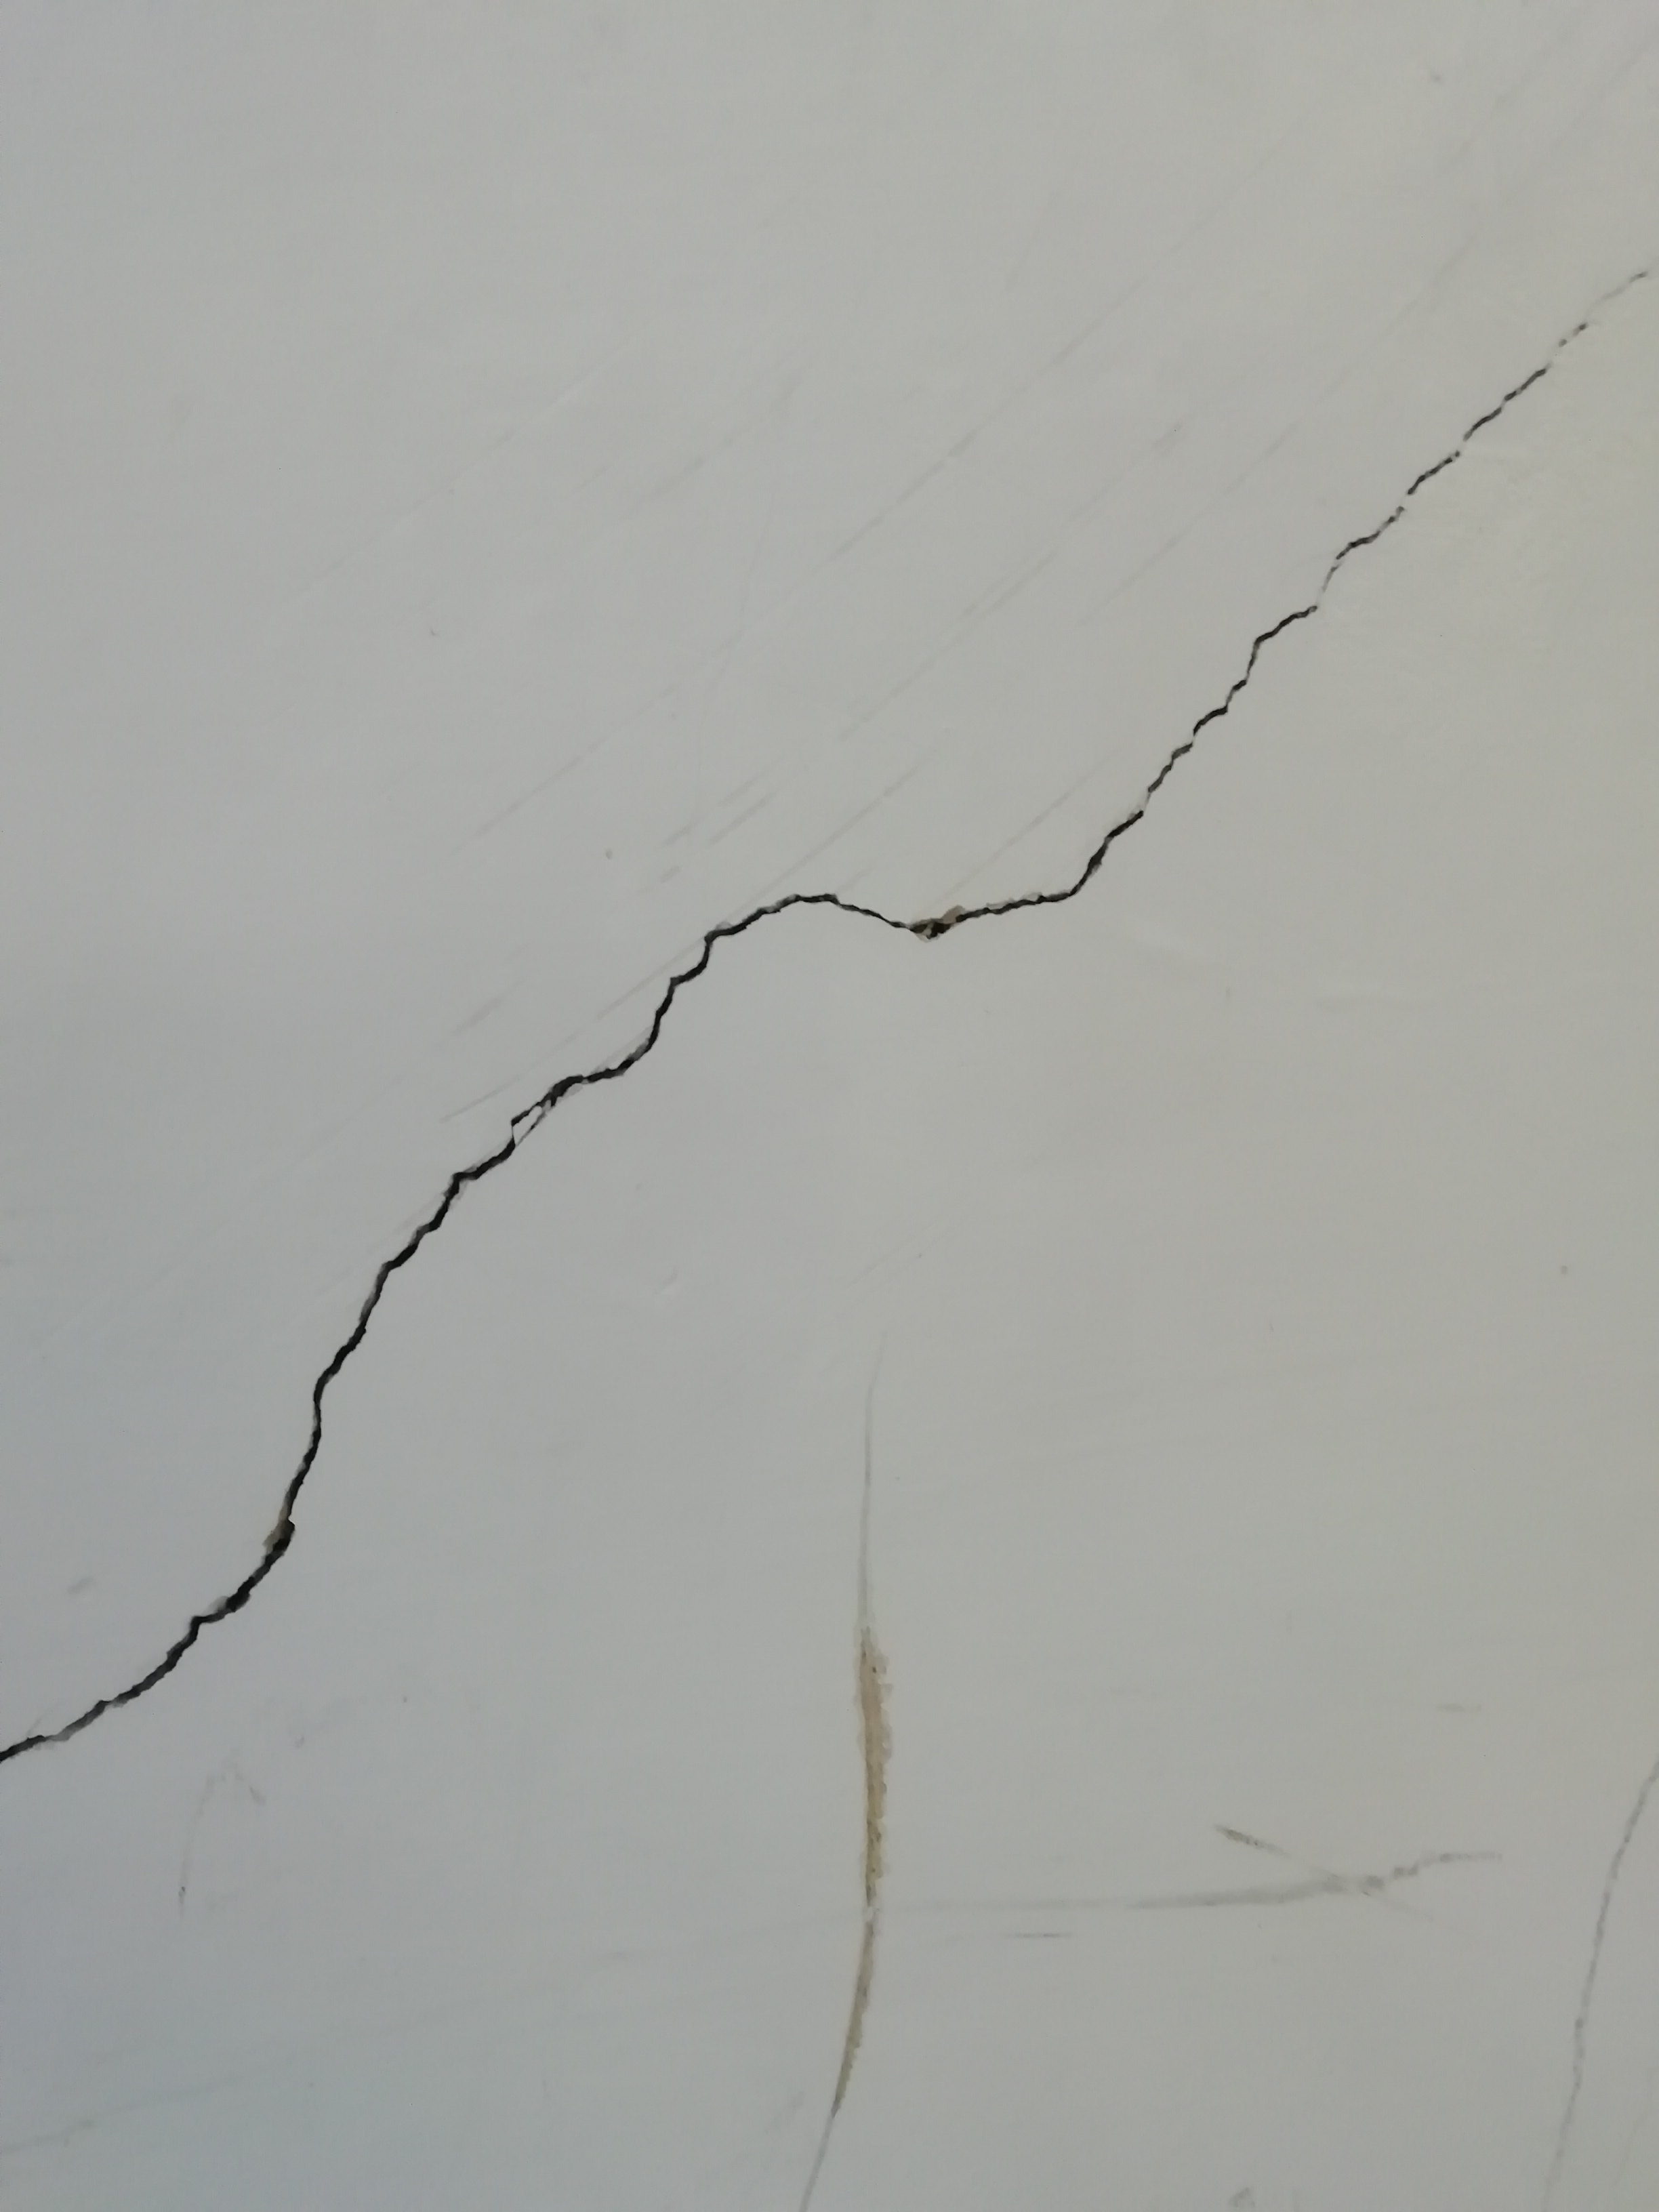Crack: (7, 894, 809, 1752), (814, 279, 1650, 953)
